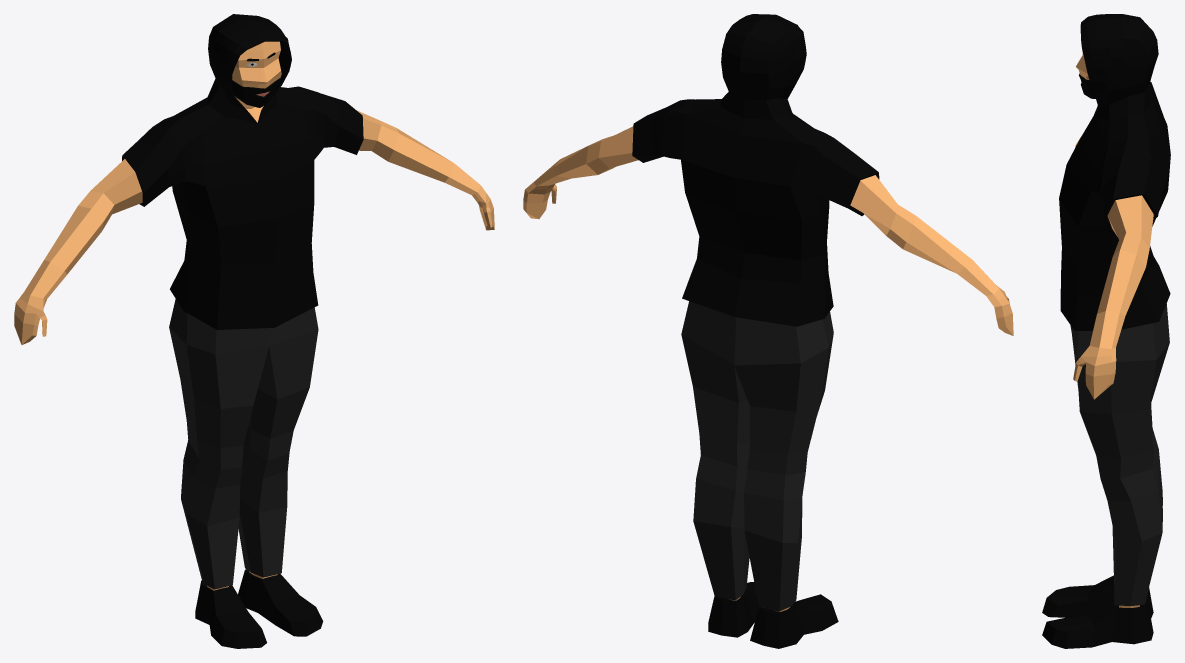
Rendered from MafiaNpc.fbx.
3 views of the same model, side by side, from view 1: azimuth 30°, elevation 25°; view 2: azimuth 150°, elevation 25°; view 3: azimuth 270°, elevation 25° (orthographic). The views are drawn at different scales.
Visible parts, largest first — view 1: Body.009; view 2: Body.009; view 3: Body.009.
Part boxes in pixels (x1,y1,x2,y2): Body.009: (14, 14, 494, 648); Body.009: (523, 14, 1013, 648); Body.009: (1042, 14, 1170, 648).
Size of the model in its own units: 537 by 647 by 124.
